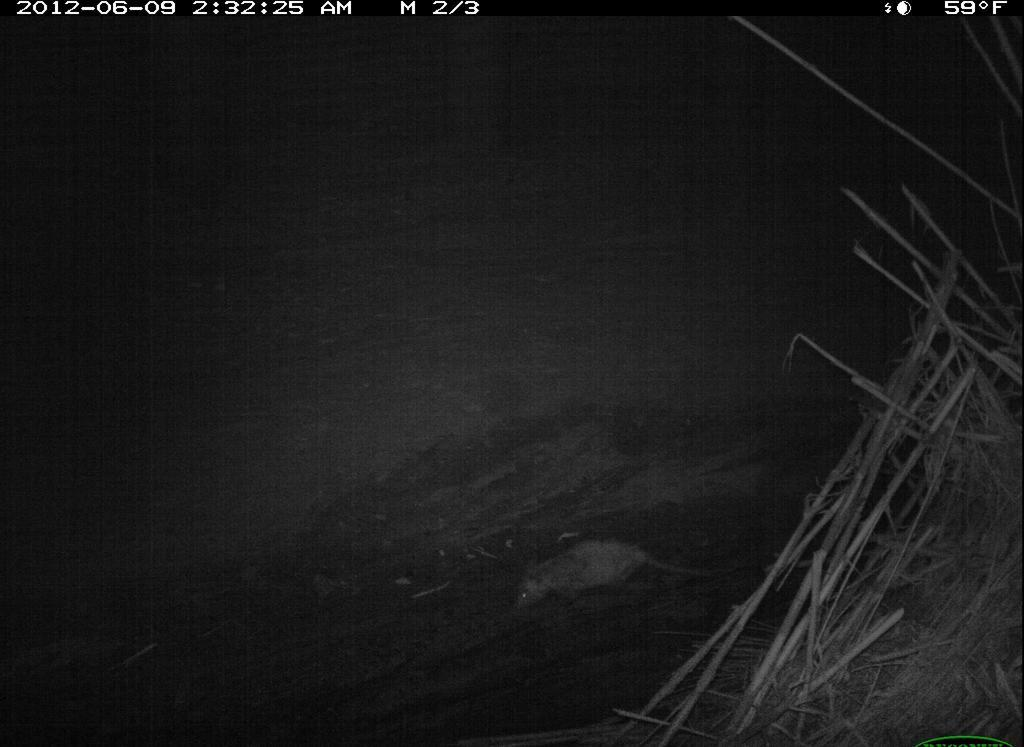opossum: (498, 527, 719, 630)
